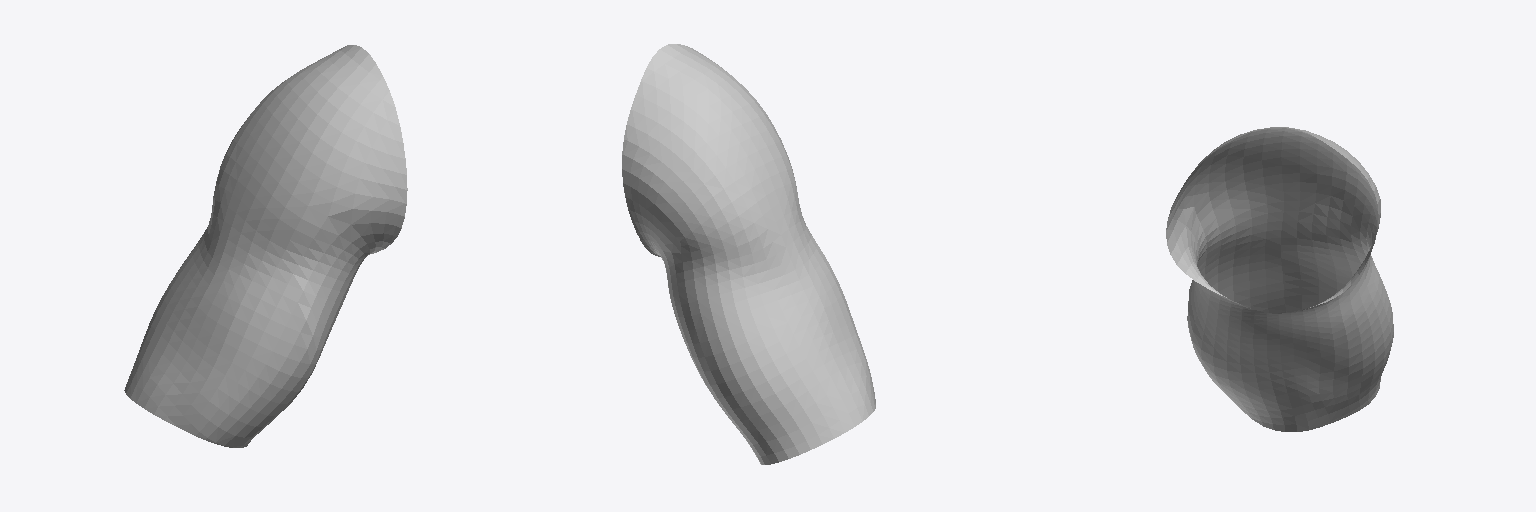
Rendered from mana1D.obj.
3 renders of one model, left to right at view 1: azimuth 30°, elevation 25°; view 2: azimuth 150°, elevation 25°; view 3: azimuth 270°, elevation 25°, orthographic.
Parts seen in each view (by area): view 1: mana1D; view 2: mana1D; view 3: mana1D.
Part boxes in pixels (x1,y1,x2,y2): mana1D: (124,45,407,447); mana1D: (622,44,875,464); mana1D: (1166,127,1393,431).
Size of the model in its own units: 2.19 by 3.54 by 2.02.